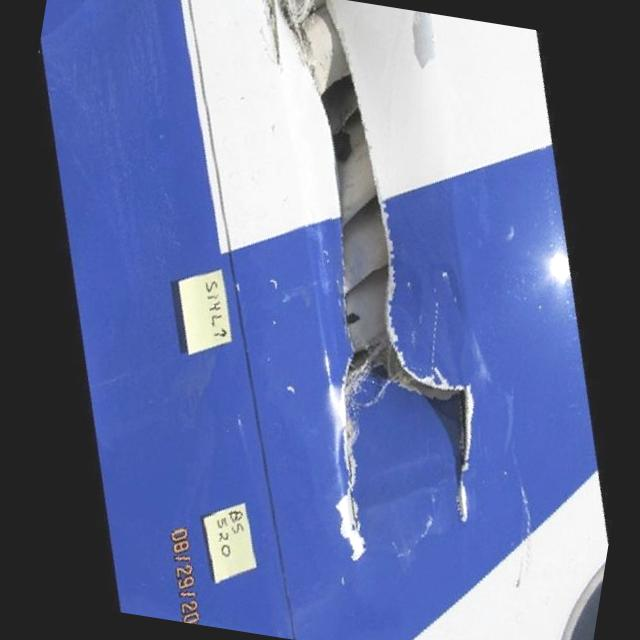crack: (319, 423, 396, 544)
